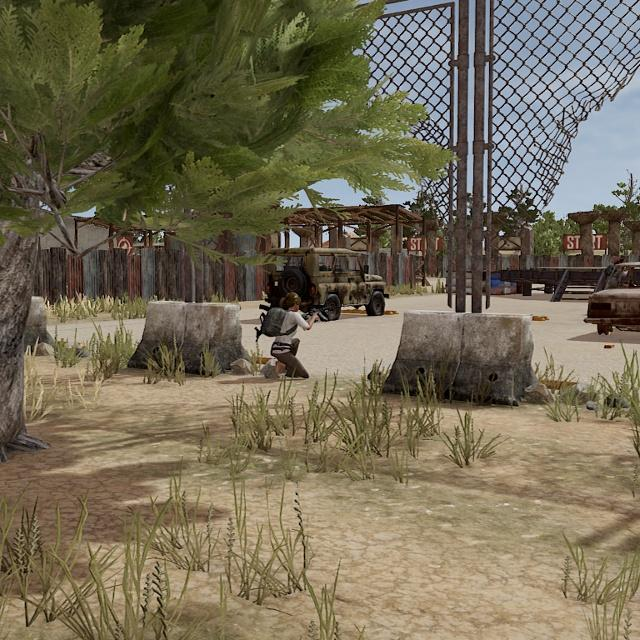head: (283, 291, 302, 313)
people: (269, 290, 311, 381)
